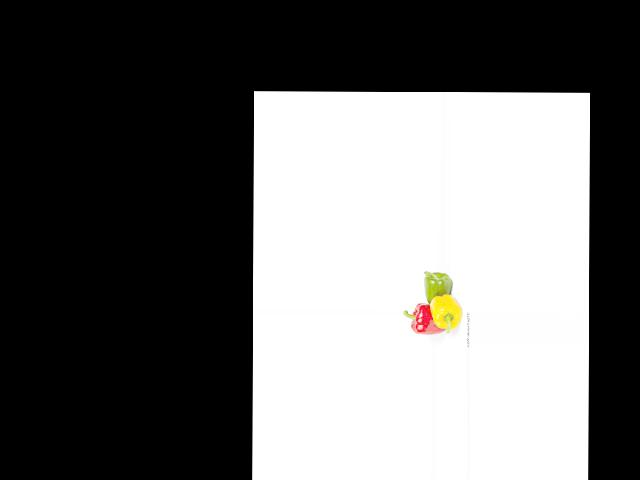bell_pepper: (403, 302, 443, 337)
